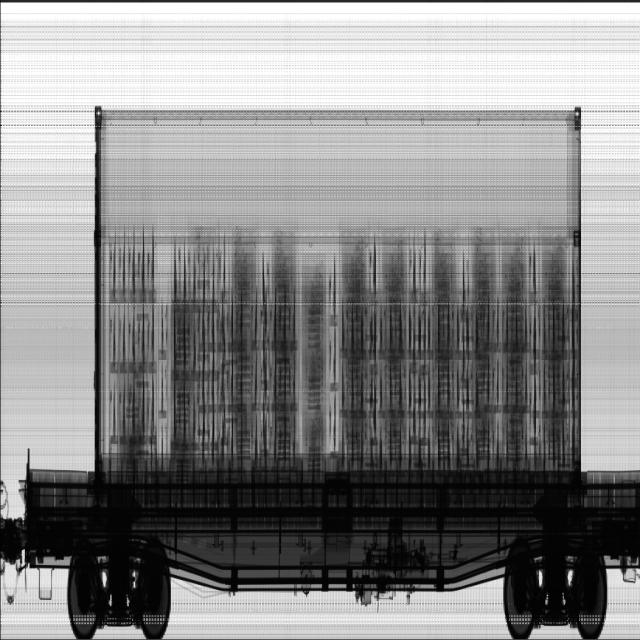spare parts: (338, 229, 572, 468)
